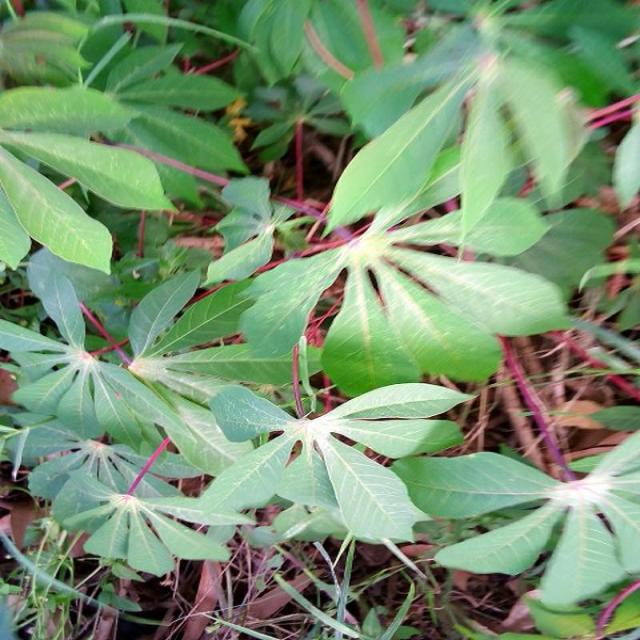cassava leaf: (4, 1, 638, 626), (207, 373, 475, 545)
